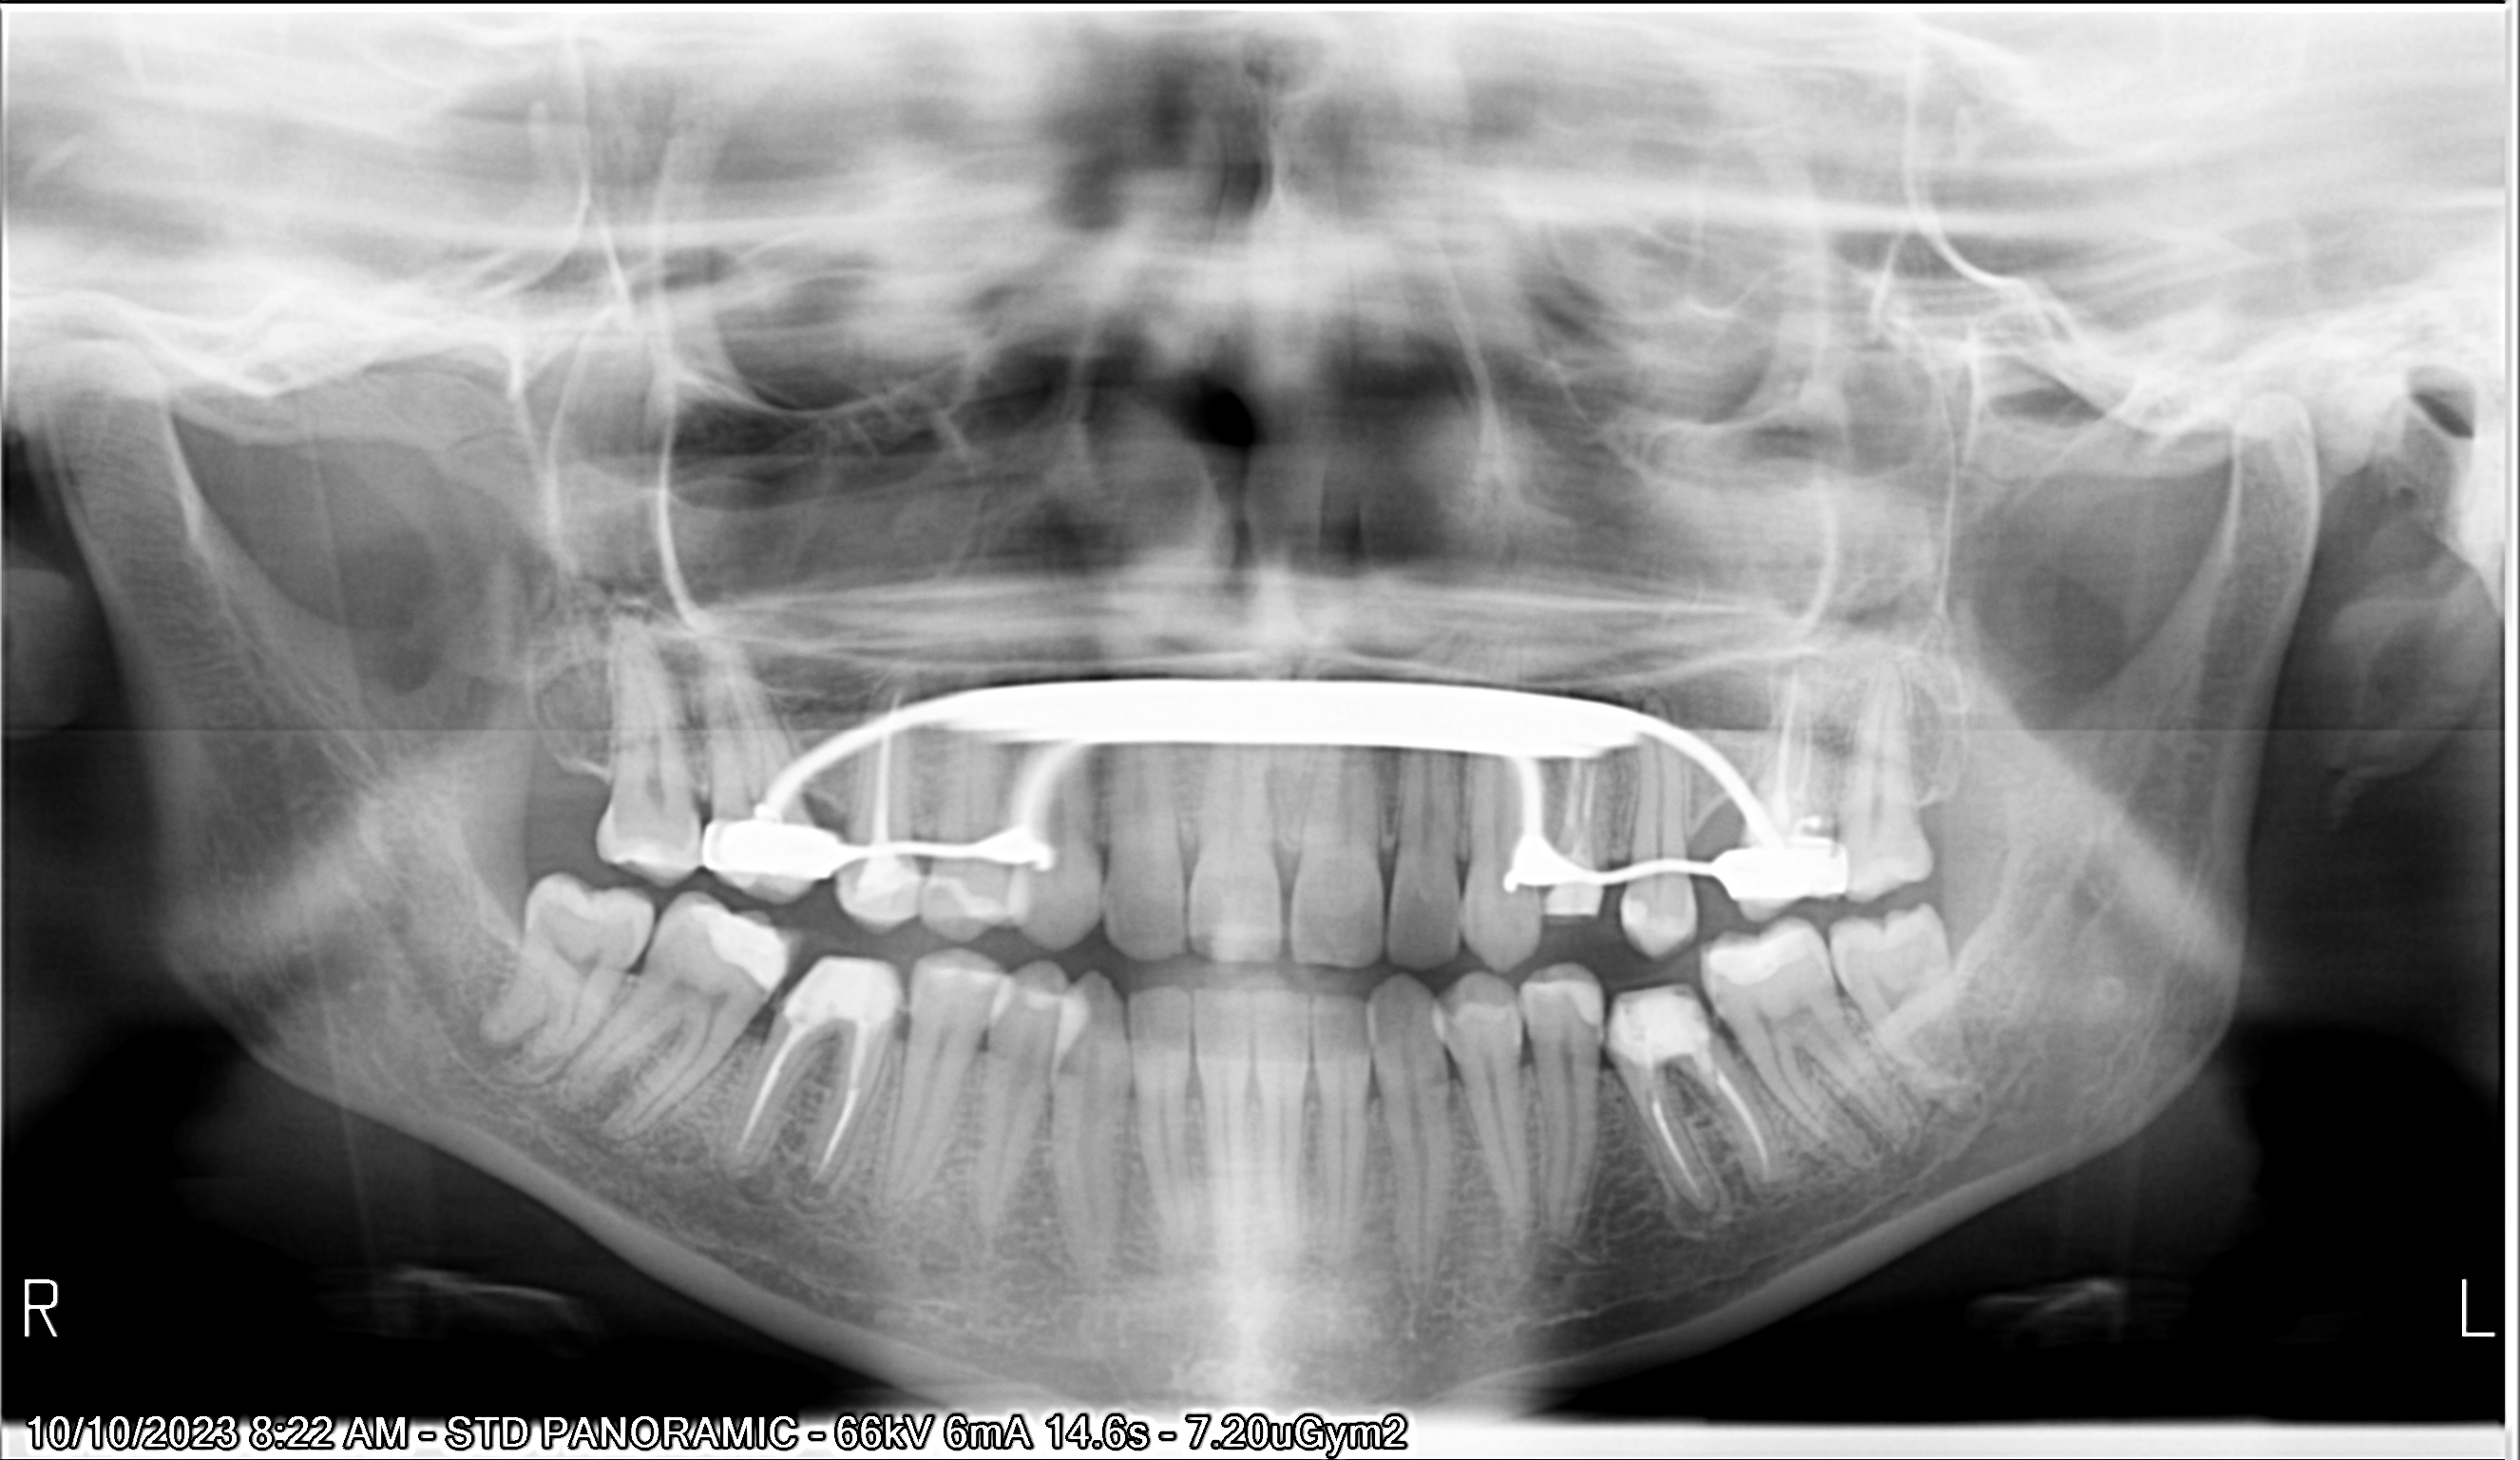API: (766, 1151, 844, 1232), (1669, 1191, 1737, 1260)
END: (717, 1013, 887, 1180), (1629, 1067, 1785, 1217), (839, 669, 924, 866), (1766, 671, 1843, 845), (1560, 740, 1613, 852)
OBT: (679, 888, 813, 1005), (768, 935, 912, 1029), (1603, 979, 1719, 1081), (1707, 909, 1818, 1008), (1525, 956, 1605, 1038), (827, 867, 922, 923), (1540, 843, 1601, 928), (1610, 892, 1662, 946)
ORD: (703, 624, 1848, 932)
